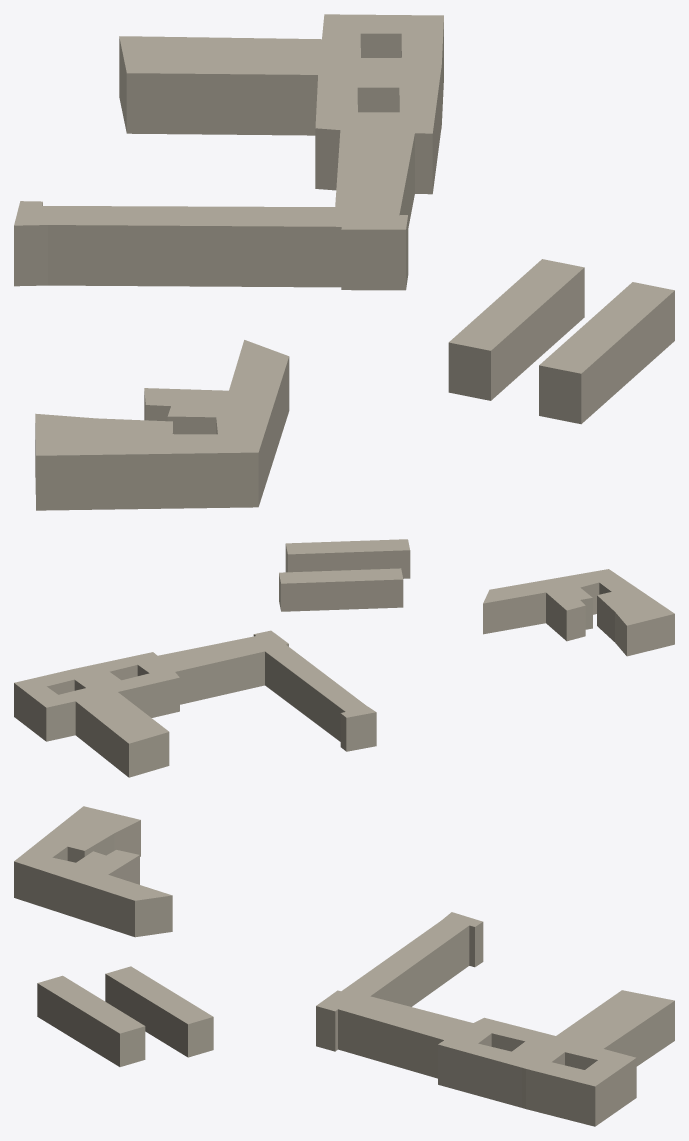
File: bormla_63_29_collision.glb
The picture shows the model from 3 angles, top to bottom: view 1: azimuth 30°, elevation 25°; view 2: azimuth 150°, elevation 25°; view 3: azimuth 270°, elevation 25°; orthographic projection. The views are drawn at different scales.
Visible parts, largest first — view 1: geometry_0; view 2: geometry_0; view 3: geometry_0.
Part boxes in pixels (x1,y1,x2,y2): geometry_0: (14, 14, 674, 510); geometry_0: (14, 539, 674, 777); geometry_0: (14, 806, 674, 1126).
Bounding box in the file's own units: 227 × 26.12 × 247.
